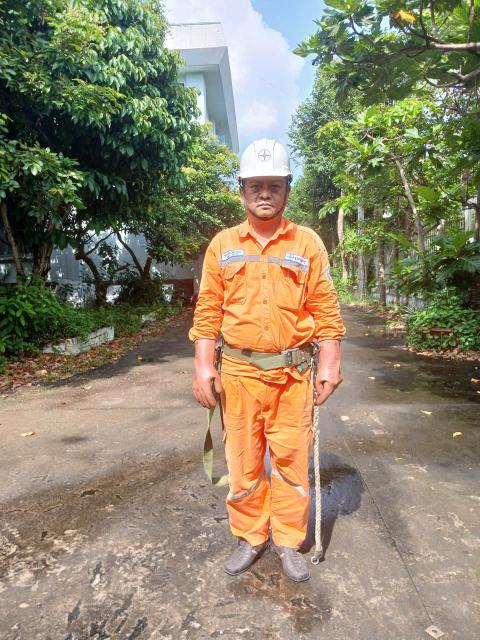gloves: (279, 318, 348, 407), (180, 328, 245, 418)
helmet: (205, 128, 307, 188)
